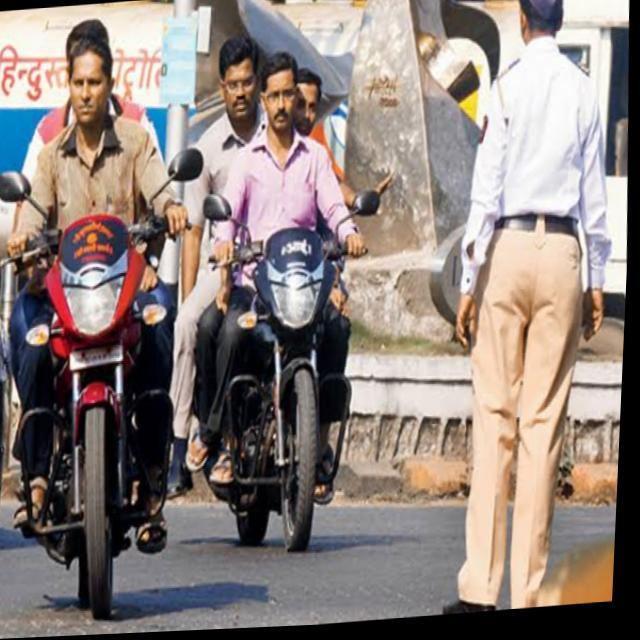Nonhelmet: (50, 15, 120, 136), (253, 50, 306, 145), (209, 23, 255, 125), (283, 60, 332, 143)
